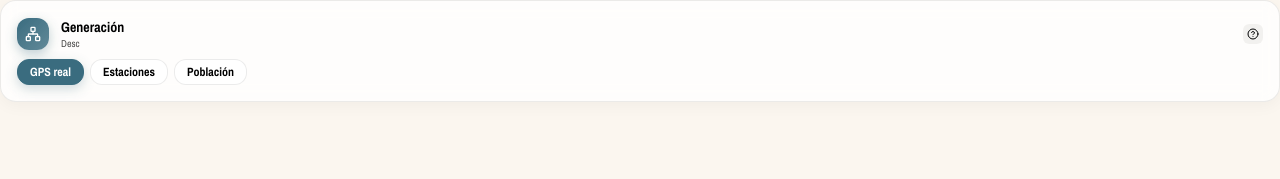
FilterCard — per-option methodology accordion › falls back to flat text when only helpComoSeRecogieron is provided
Click the button named "mostrar información": (1253, 34) [1243, 24, 1263, 44]
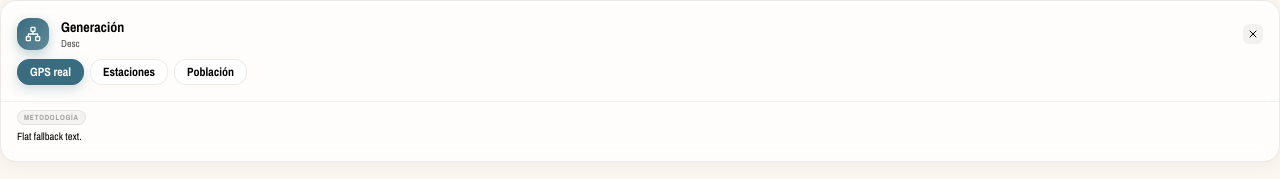
Now the text "Flat fallback text." is shown, box [17, 129, 82, 143]
